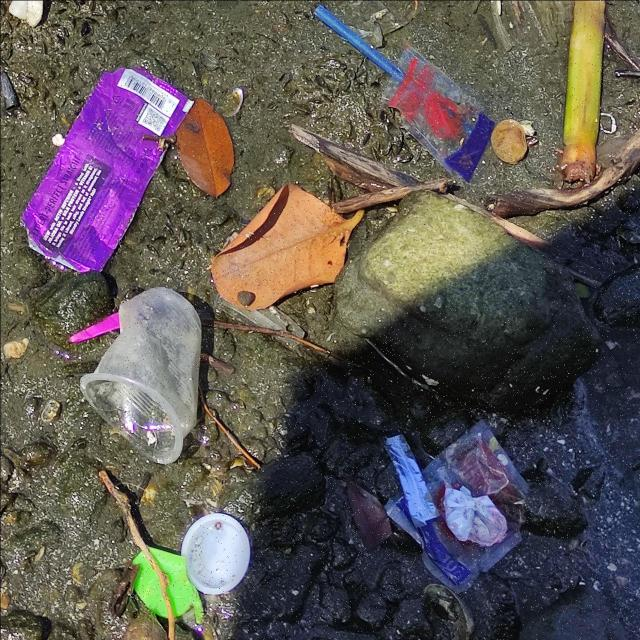plastic_waste: (25, 71, 201, 279), (382, 419, 531, 594), (78, 287, 202, 465), (385, 46, 493, 186), (181, 515, 253, 600)
